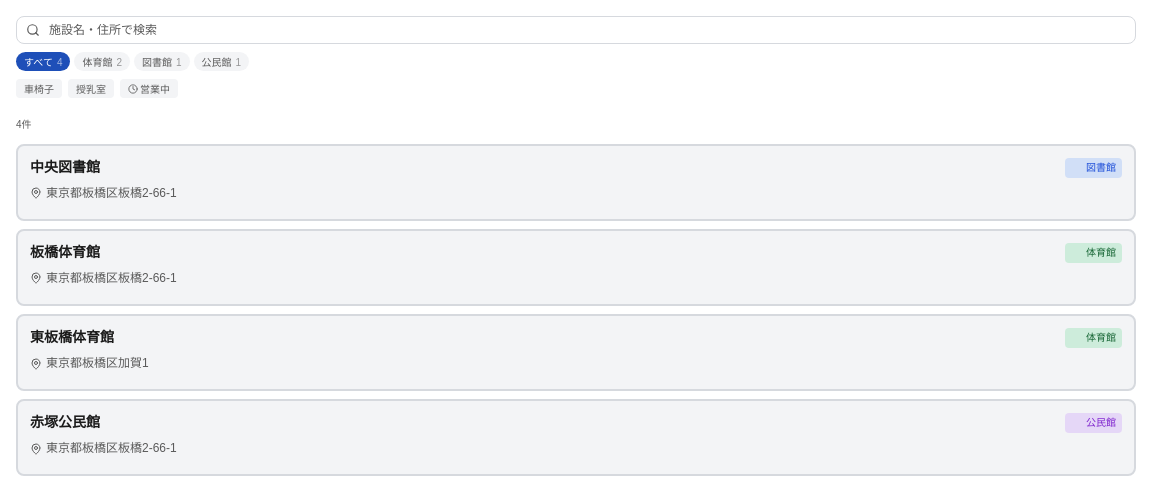
Test: FacilityList › shows empty state when no matches
The image size is (1152, 493).
Type "xxxxxxx" into the field with test id "facility-search-input" at (576, 30), box [16,16,1136,44]
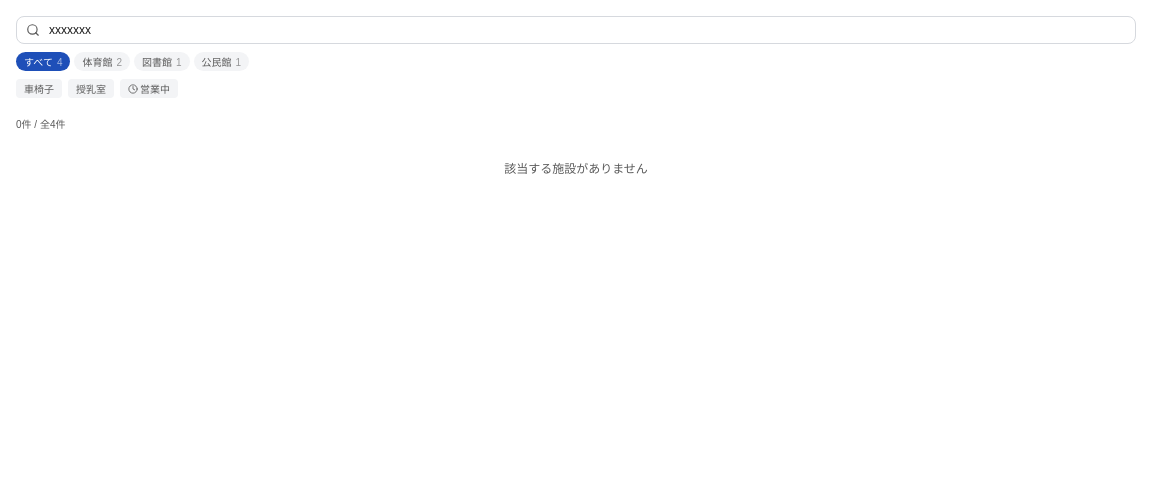
Now the text "該当する施設がありません" is shown, box [504,162,648,176]
